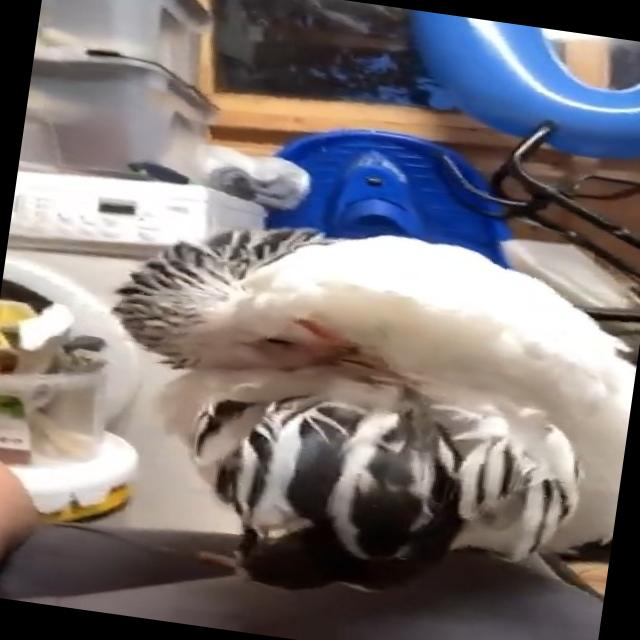self preening: (84, 205, 640, 638)
